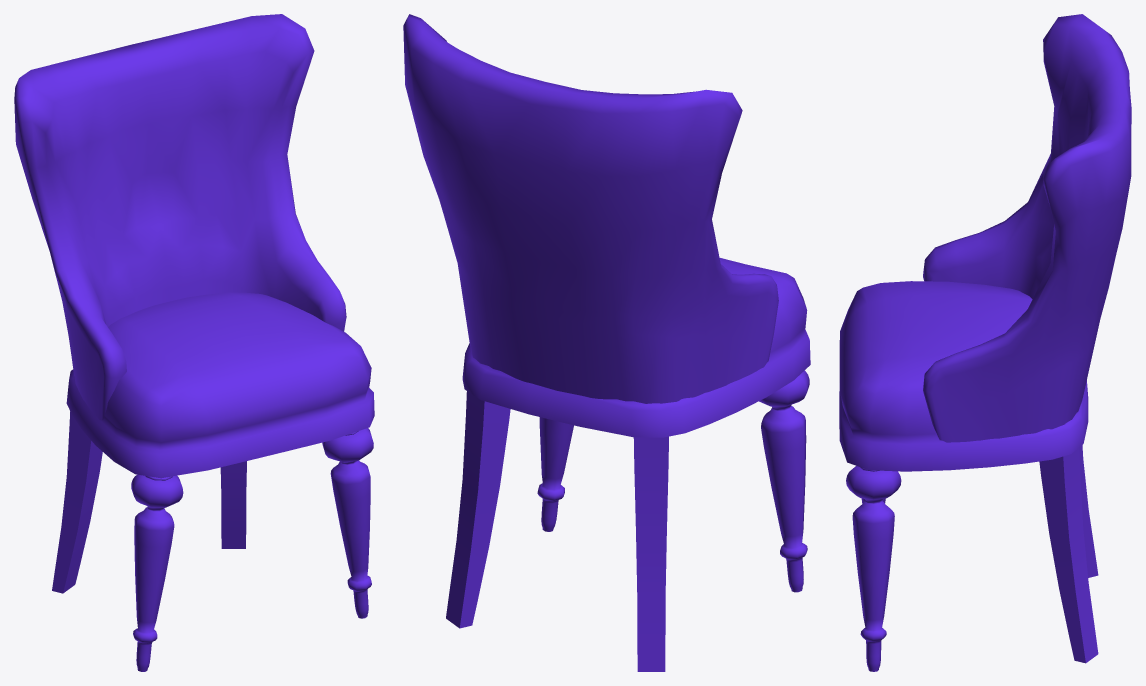
The model's file is CHAIR 3.glb.
3 views of the same model, side by side, from view 1: azimuth 30°, elevation 25°; view 2: azimuth 150°, elevation 25°; view 3: azimuth 270°, elevation 25° (orthographic). The views are drawn at different scales.
Parts seen in each view (by area): view 1: chair_1; view 2: chair_1; view 3: chair_1.
Boxes of the visible parts, left/top/right/bottom form: chair_1: left=14, top=14, right=374, bottom=671; chair_1: left=403, top=14, right=810, bottom=671; chair_1: left=839, top=14, right=1131, bottom=671.
Bounding box in the file's own units: 0.5777 × 0.9808 × 0.4847.
